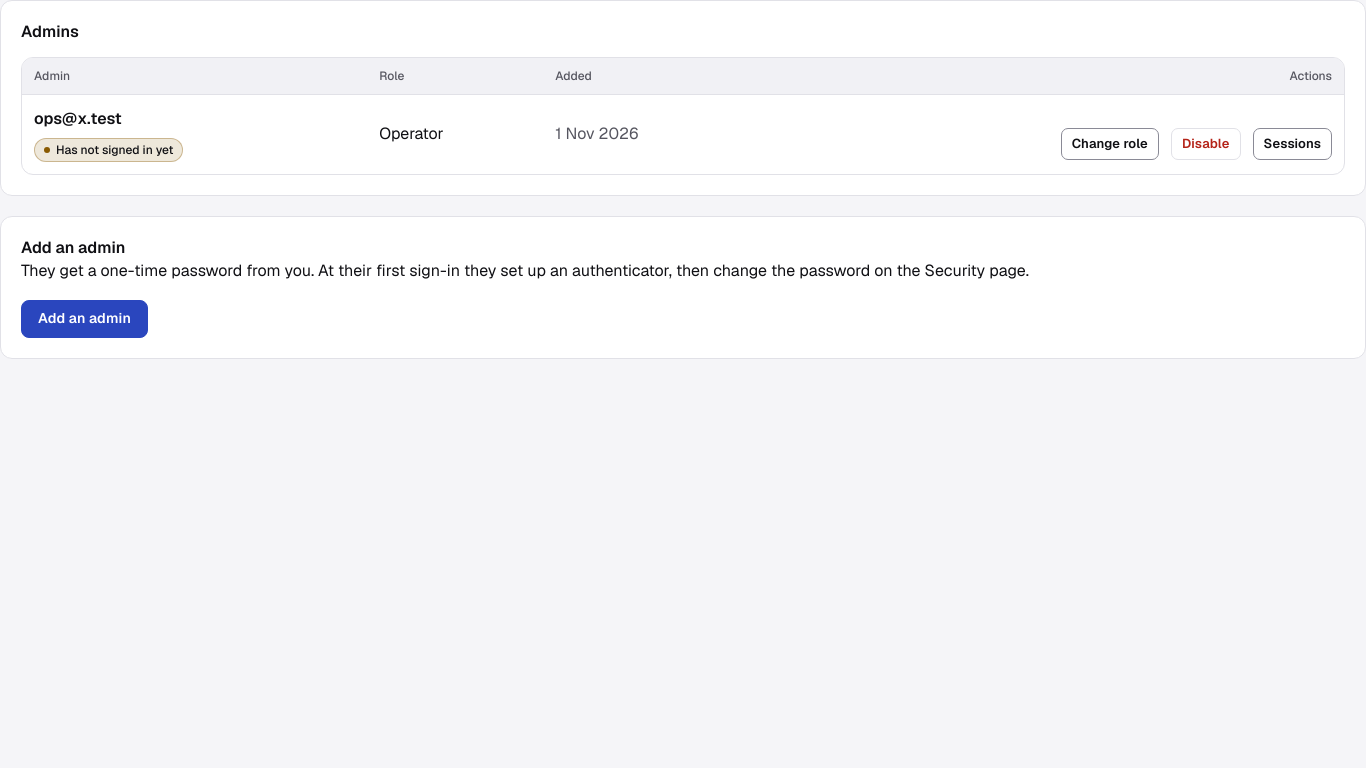
Test case: AdminsPanel › changes a role and disables
Step 1. Click the button "Change role" → x=1110, y=144, box x1=1061 y1=128 x2=1159 y2=160
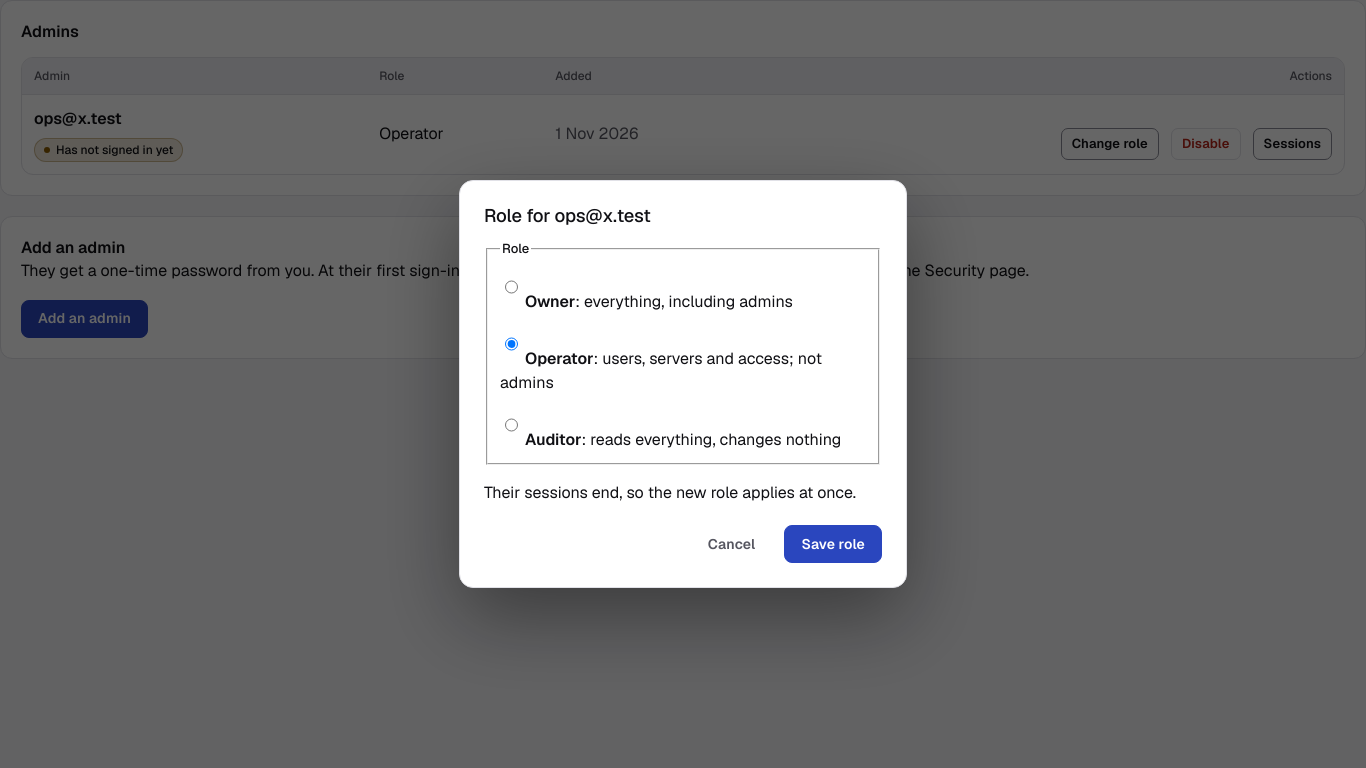
Step 2. Click the radio button labelled "Auditor: reads everything, changes nothing" → x=512, y=425, box x1=505 y1=405 x2=518 y2=445
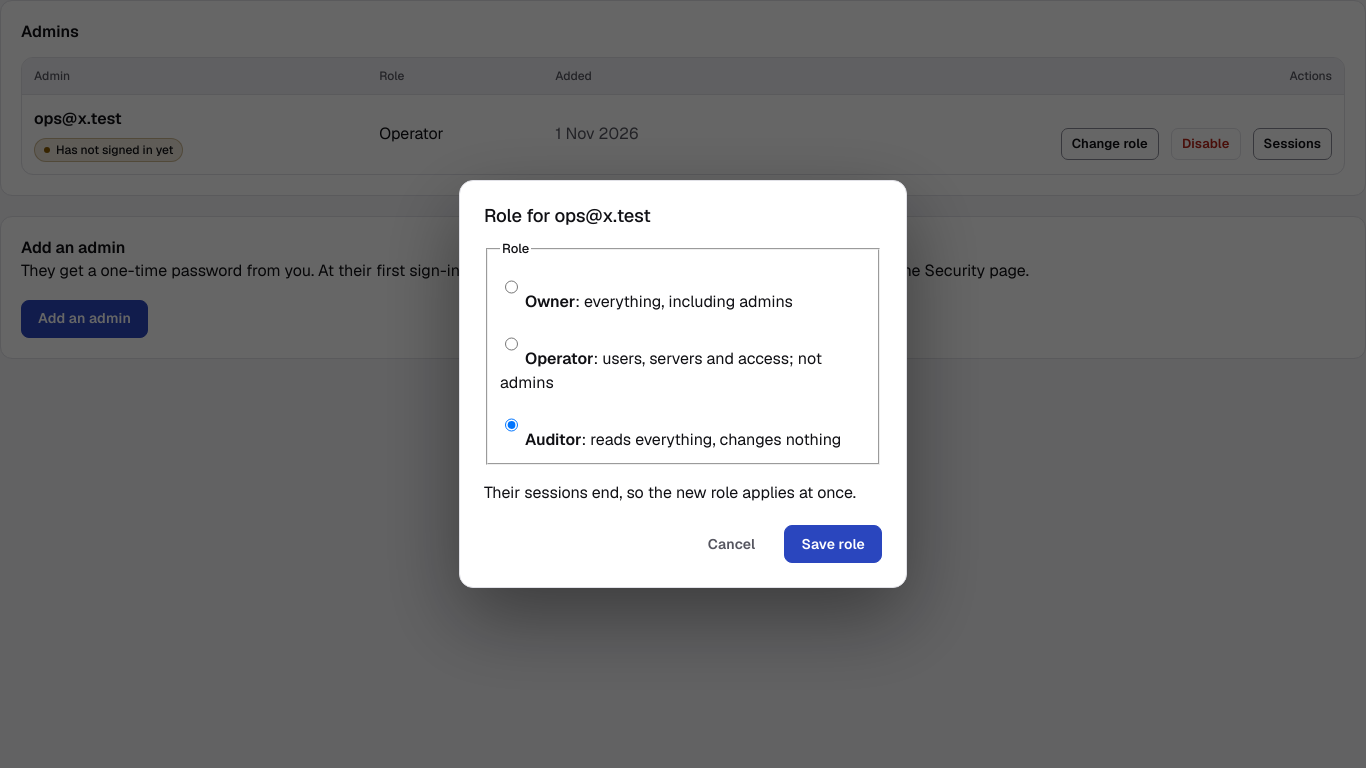
Step 3. Click the button "Save role" → x=833, y=544, box x1=784 y1=526 x2=882 y2=564
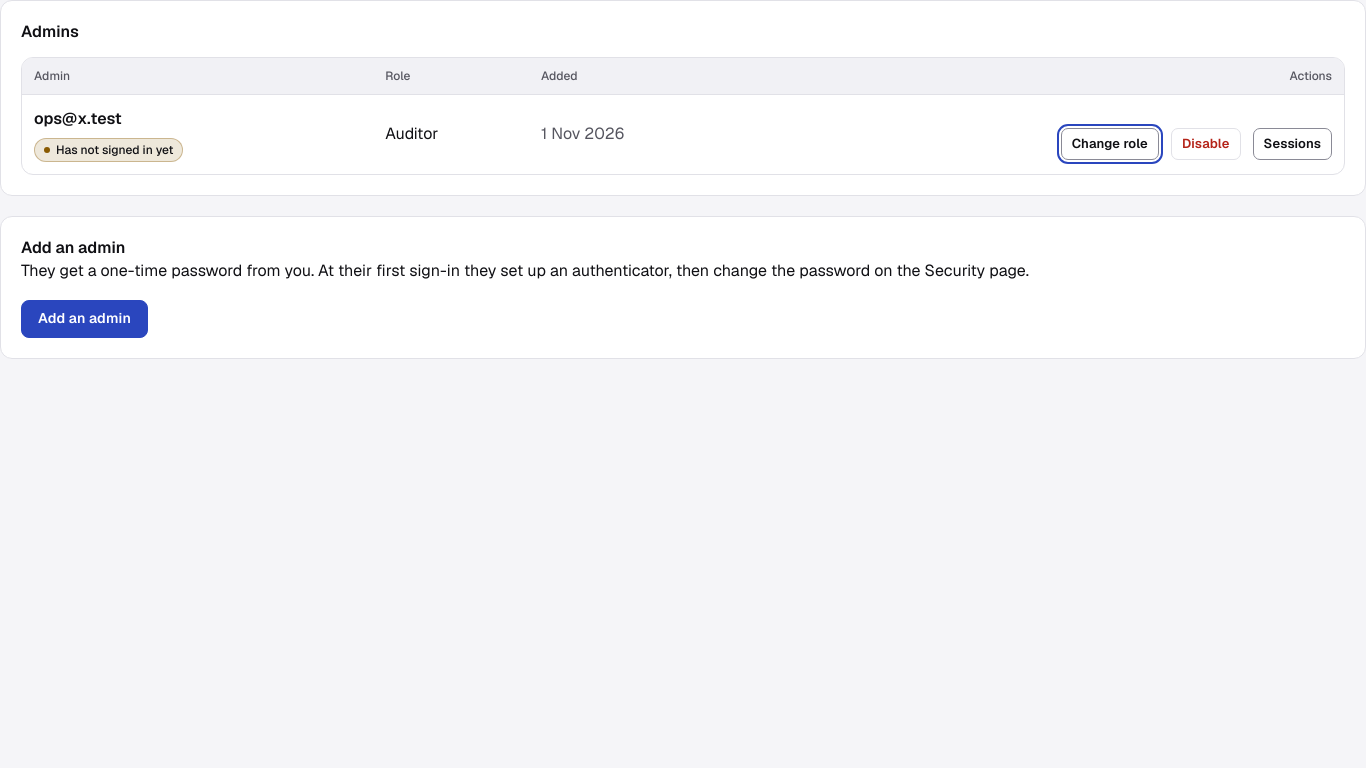
Step 4. Click the button "Disable" → x=1206, y=144, box x1=1171 y1=128 x2=1241 y2=160
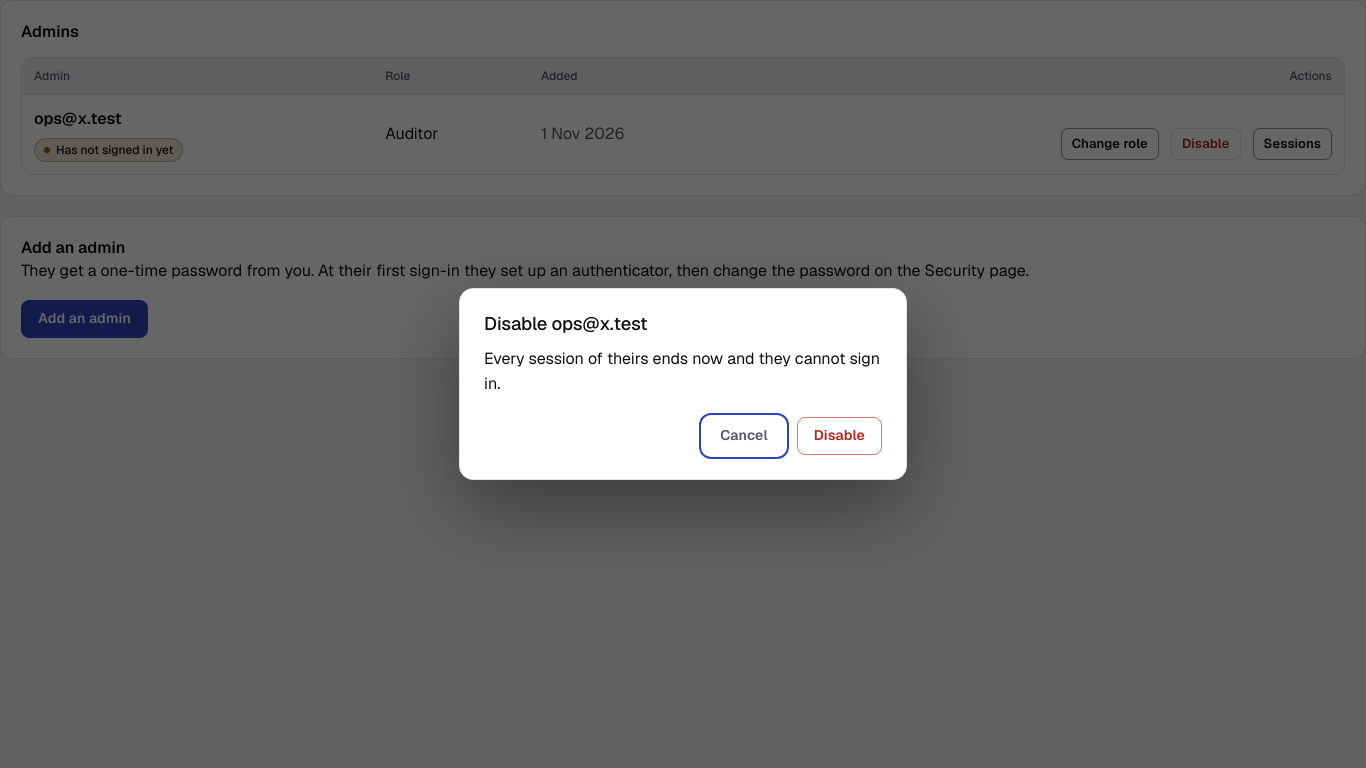
Step 5. Click the button "Disable" → x=839, y=436, box x1=797 y1=417 x2=882 y2=455
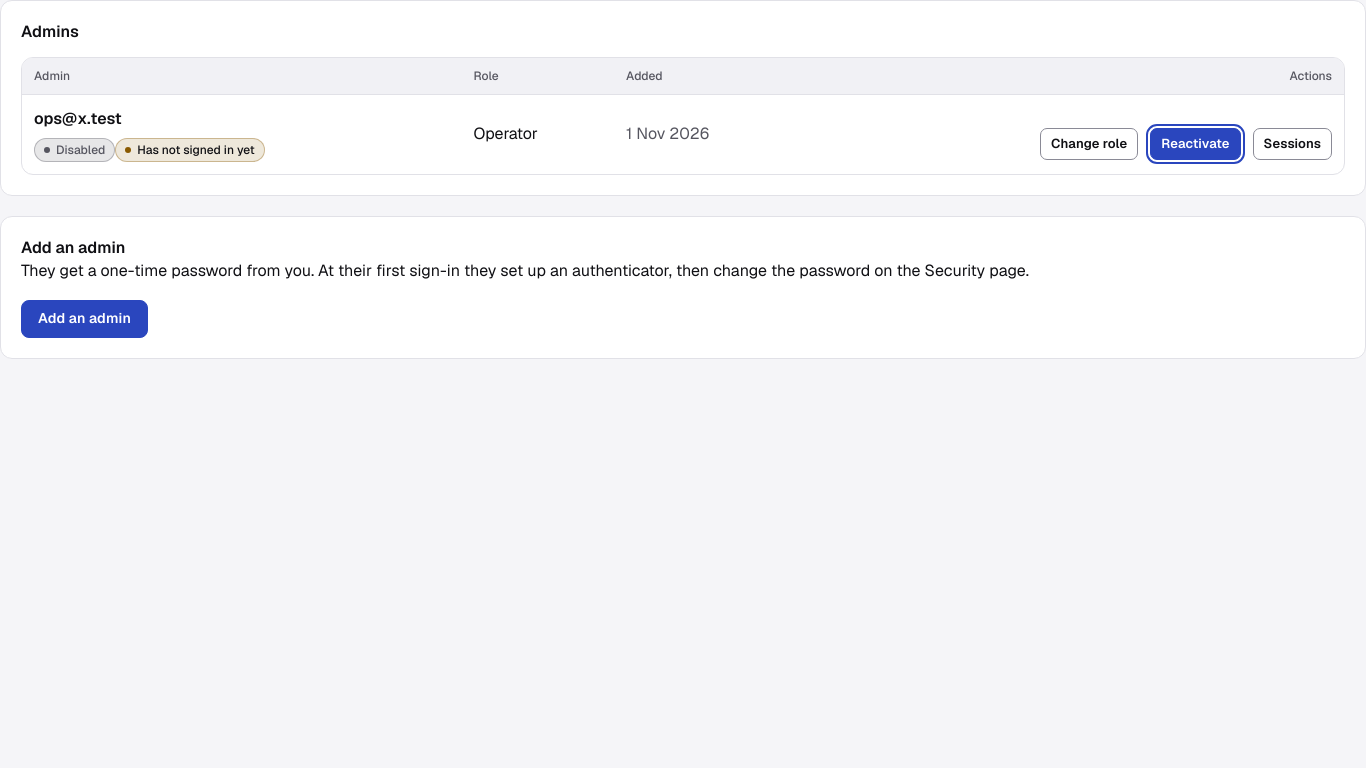
Now the button "Reactivate" is shown, box x1=1150 y1=128 x2=1241 y2=160
